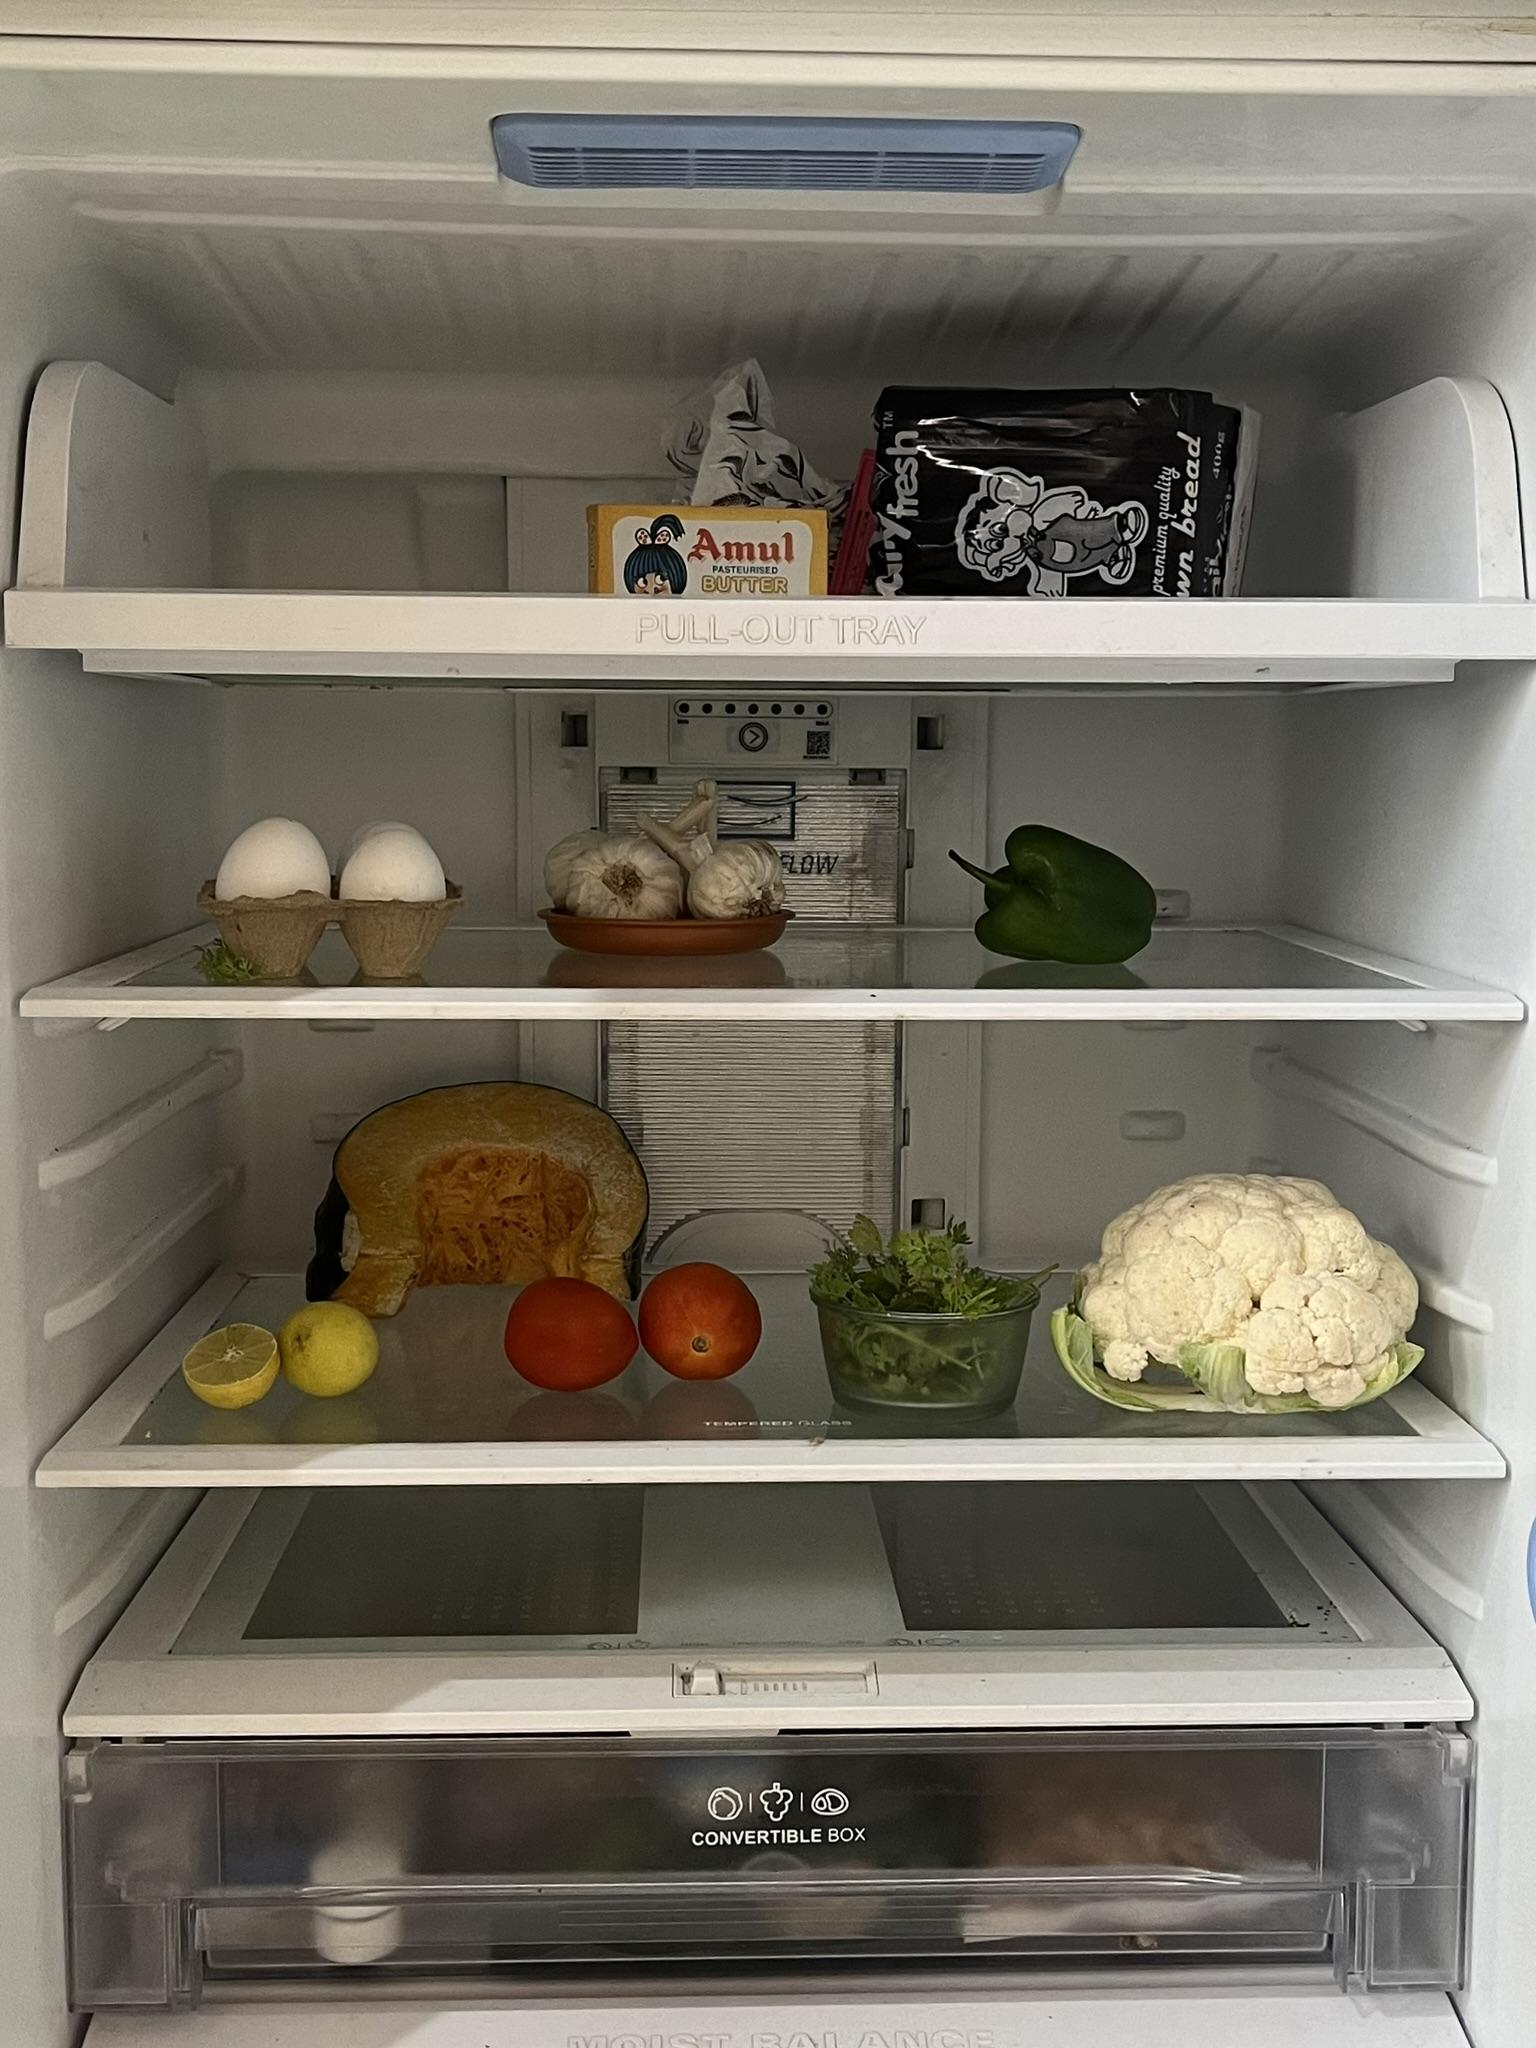bread: (666, 353, 1257, 600)
butter: (594, 500, 826, 597)
capsicum: (950, 827, 1157, 959)
cauliflower: (1063, 1171, 1430, 1413)
coriander: (816, 1203, 1029, 1400)
egg: (216, 816, 444, 980)
garlic: (537, 787, 773, 916)
lemon: (181, 1306, 384, 1403)
pumpkin: (313, 1071, 647, 1313)
tomato: (510, 1259, 757, 1387)
